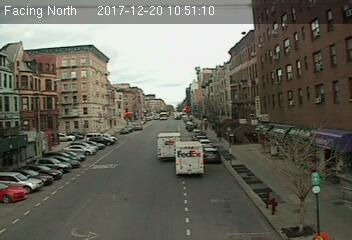car: (204, 147, 219, 163)
truck: (174, 141, 205, 179), (155, 131, 181, 164)
